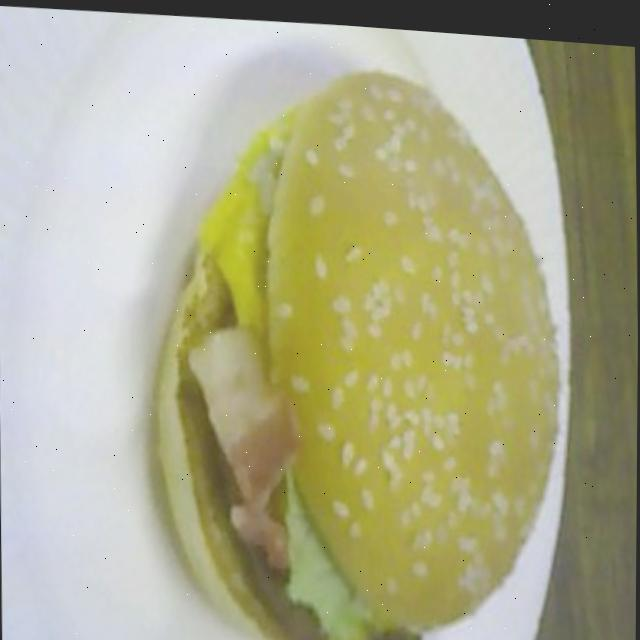汉堡快餐: (159, 42, 557, 640)
